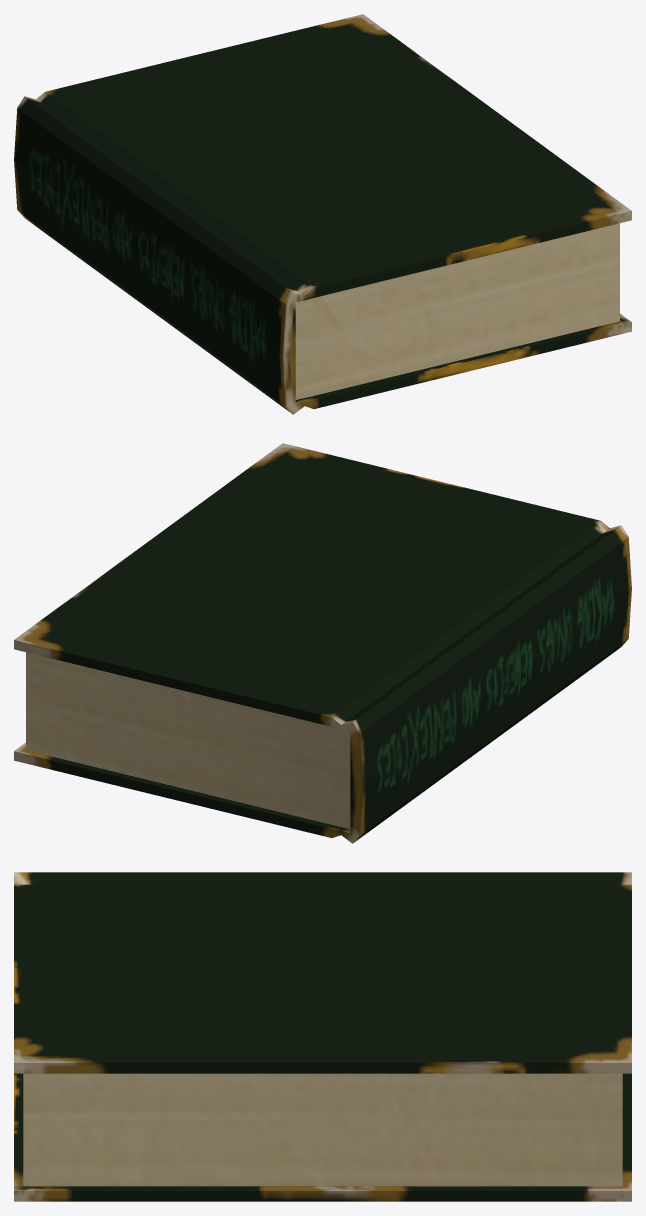
File: LIBRO_BENEFIT.glb
3 renders of one model, top to bottom at view 1: azimuth 30°, elevation 25°; view 2: azimuth 150°, elevation 25°; view 3: azimuth 270°, elevation 25°, orthographic. The views are drawn at different scales.
Parts seen in each view (by area): view 1: LIBRO_1; view 2: LIBRO_1; view 3: LIBRO_1.
Part boxes in pixels (left/top/right/bottom): LIBRO_1: left=14, top=14, right=631, bottom=414; LIBRO_1: left=14, top=443, right=631, bottom=843; LIBRO_1: left=14, top=872, right=631, bottom=1201.
Bounding box in the file's own units: 0.3 × 0.1 × 0.4.
1 material, 1 textured.
